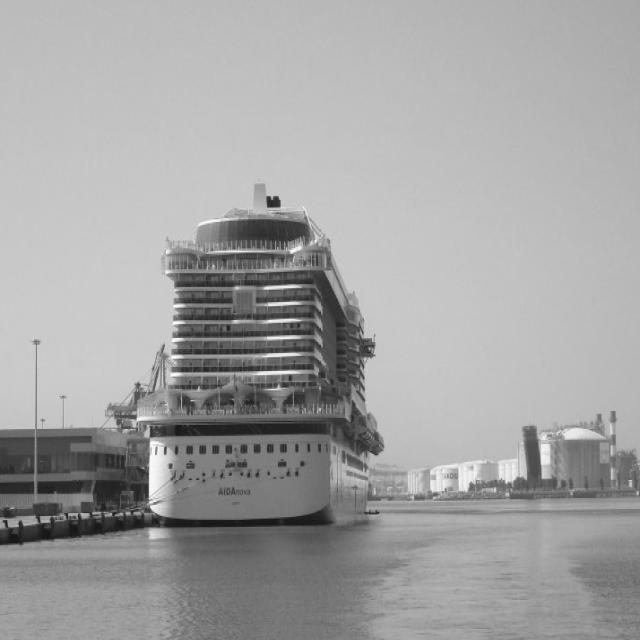cruises: (129, 178, 387, 535)
